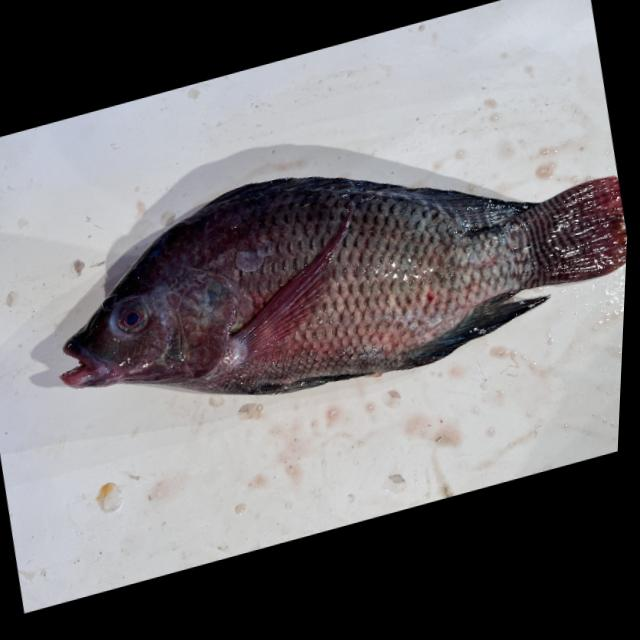Tilapia: (29, 81, 634, 467)
